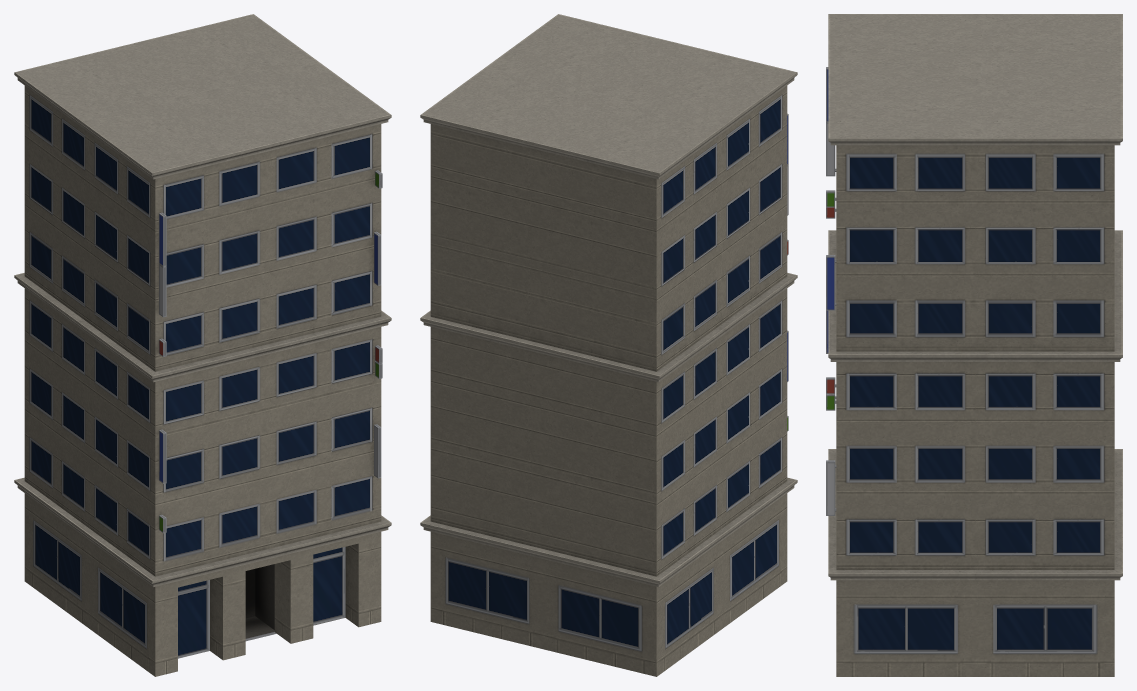
Rendered from sb_obj_ModernCity002_buil_a2.fbx.
3 views of the same model, side by side, from view 1: azimuth 30°, elevation 25°; view 2: azimuth 150°, elevation 25°; view 3: azimuth 270°, elevation 25° (orthographic). The views are drawn at different scales.
Parts seen in each view (by area): view 1: sb_obj_ModernCity002_buil_a2; view 2: sb_obj_ModernCity002_buil_a2; view 3: sb_obj_ModernCity002_buil_a2.
Part boxes in pixels (left/top/right/bottom): sb_obj_ModernCity002_buil_a2: left=14, top=14, right=391, bottom=676; sb_obj_ModernCity002_buil_a2: left=420, top=14, right=797, bottom=676; sb_obj_ModernCity002_buil_a2: left=826, top=14, right=1122, bottom=676.
Bounding box in the file's own units: 4.93 × 10 × 4.96.
